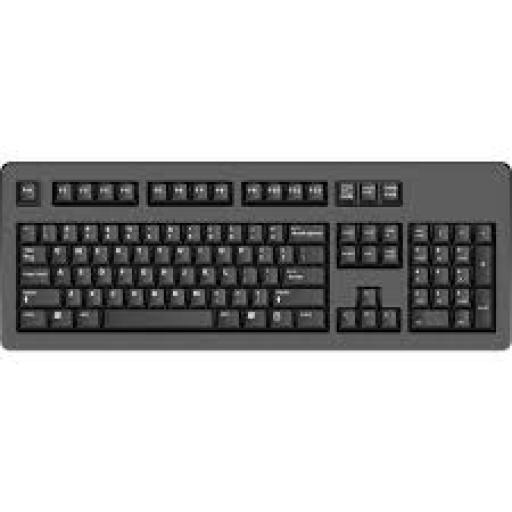KEYBOARD-2: (5, 164, 507, 346)
